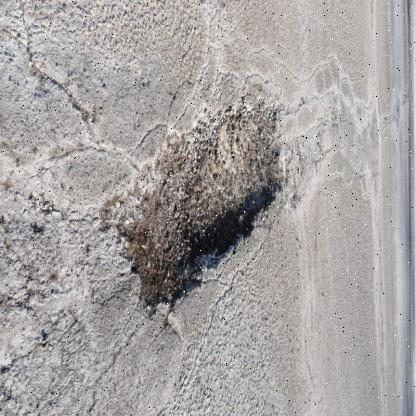damage: (82, 70, 304, 330)
